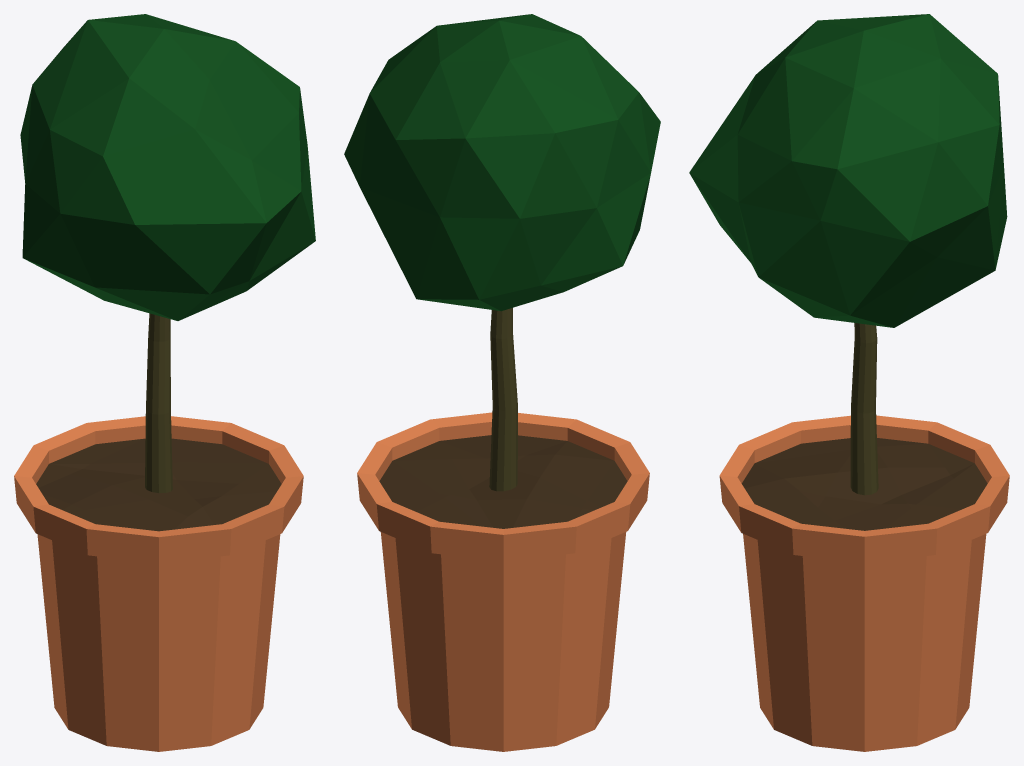
The model's file is Plant.glb.
3 views of the same model, side by side, from view 1: azimuth 30°, elevation 25°; view 2: azimuth 150°, elevation 25°; view 3: azimuth 270°, elevation 25° (orthographic).
Parts seen in each view (by area): view 1: PlantPot; view 2: PlantPot; view 3: PlantPot.
Boxes of the visible parts, left/top/right/bottom form: PlantPot: left=14, top=14, right=315, bottom=751; PlantPot: left=344, top=14, right=660, bottom=751; PlantPot: left=689, top=14, right=1009, bottom=751.
Bounding box in the file's own units: 1.19 × 2.95 × 1.26.
